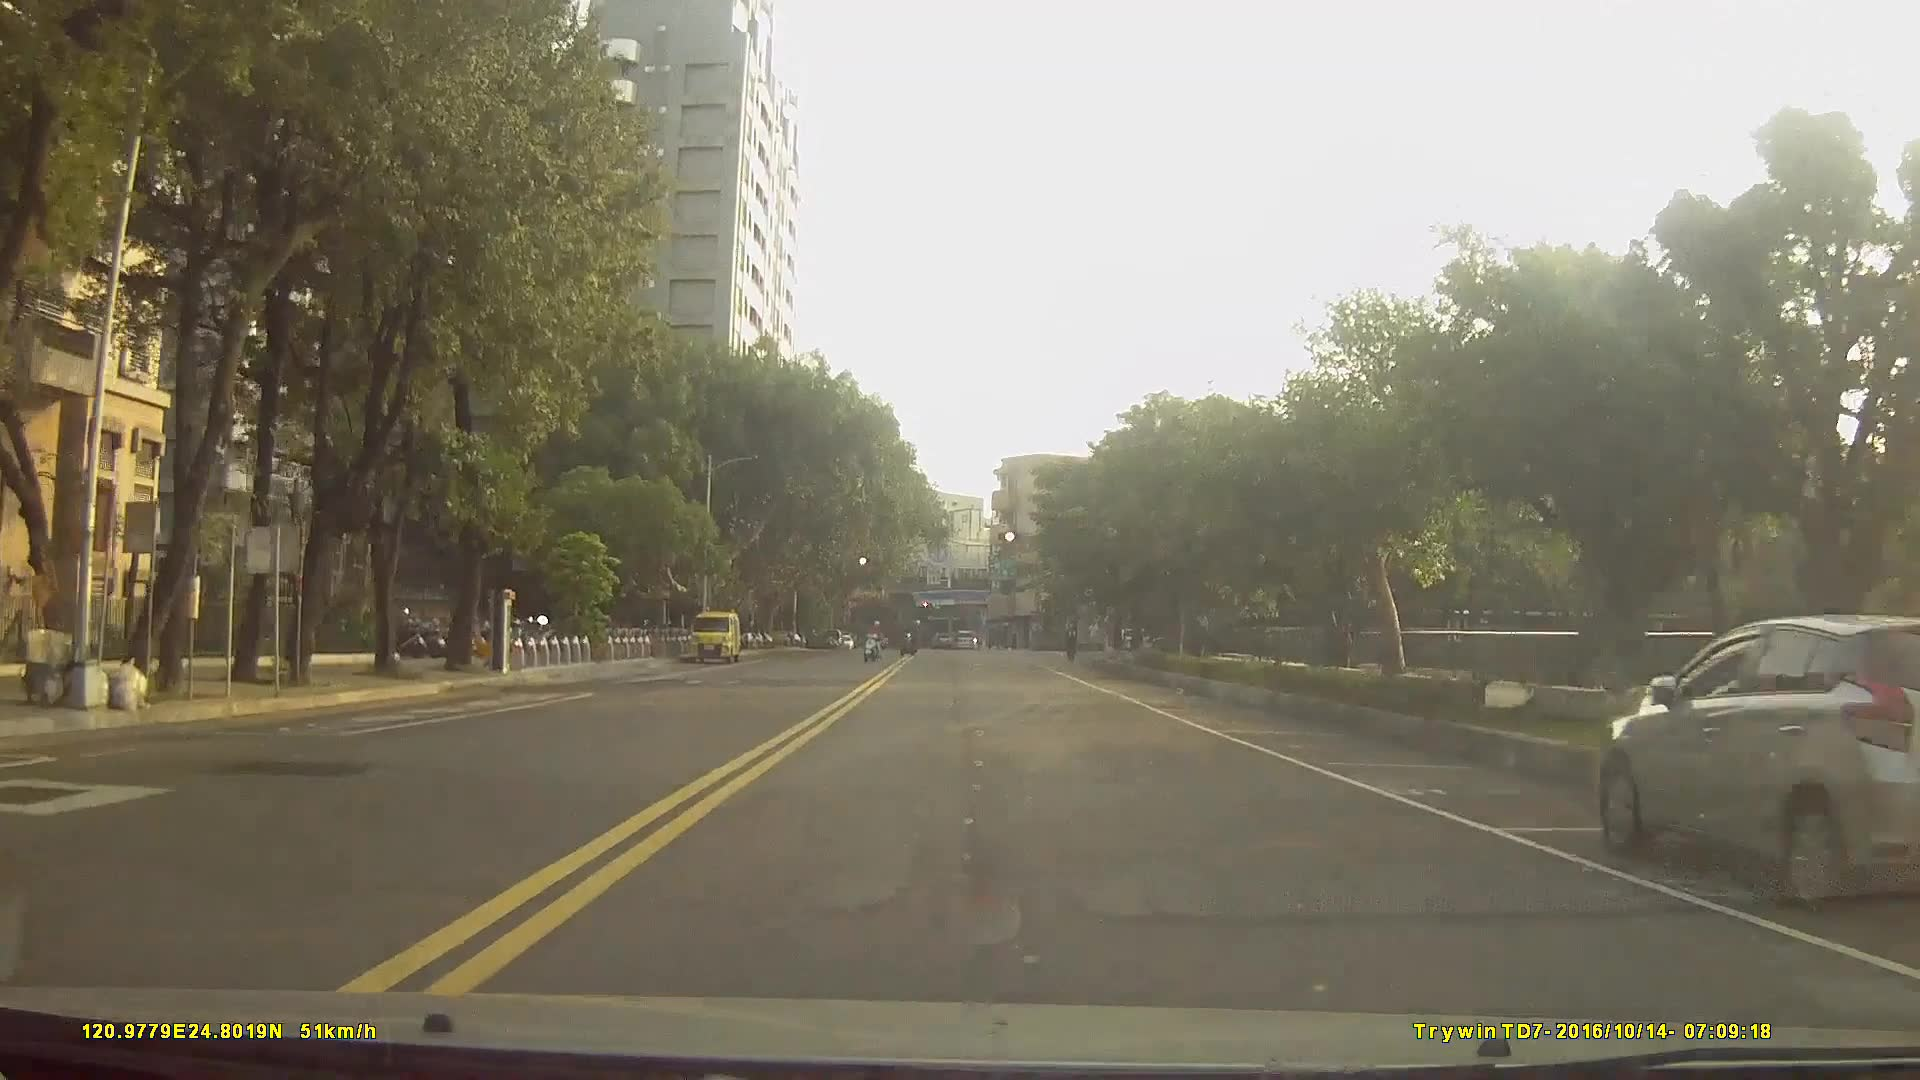pedestrian: (1086, 615, 1106, 657)
rider: (860, 616, 888, 664), (900, 618, 922, 658)
vehicle: (1598, 611, 1920, 912), (950, 627, 978, 651)
